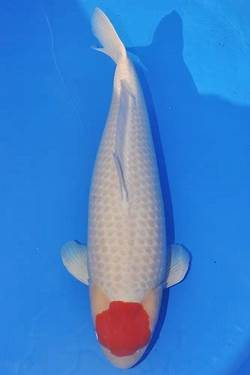sun: (60, 6, 190, 369)
